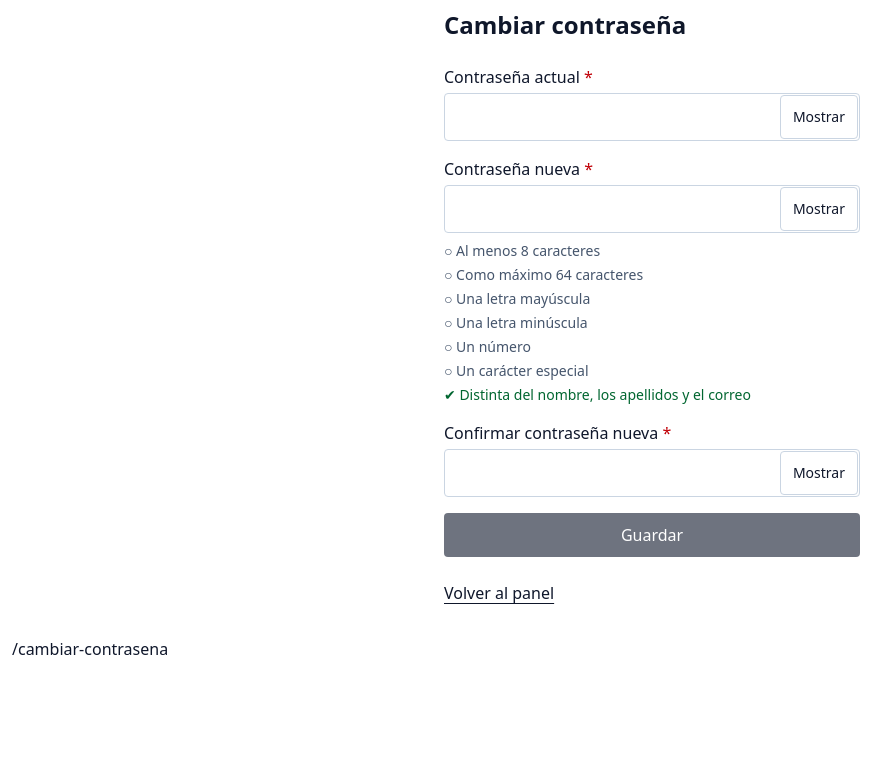
Test case: ChangePasswordPage › con un 403 muestra un error del sistema sin detalles internos
Type "vieja" into the password field labelled "Contraseña actual *" at (652, 117), box [444,93,860,141]
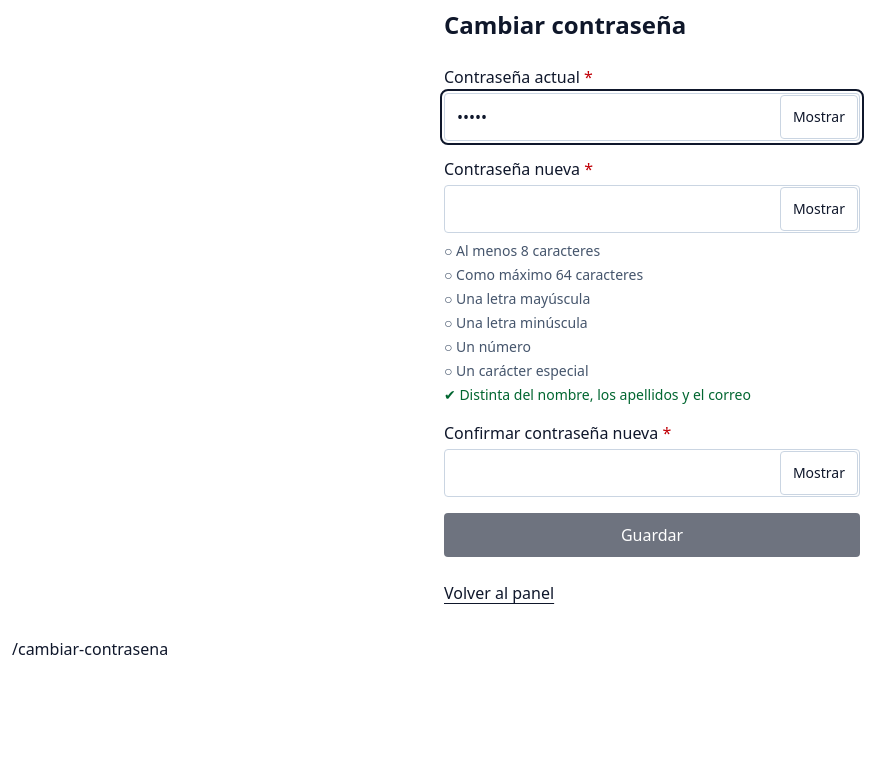
Type "Nueva.2026" into the password field labelled "Contraseña nueva *" at (652, 209), box [444,185,860,233]
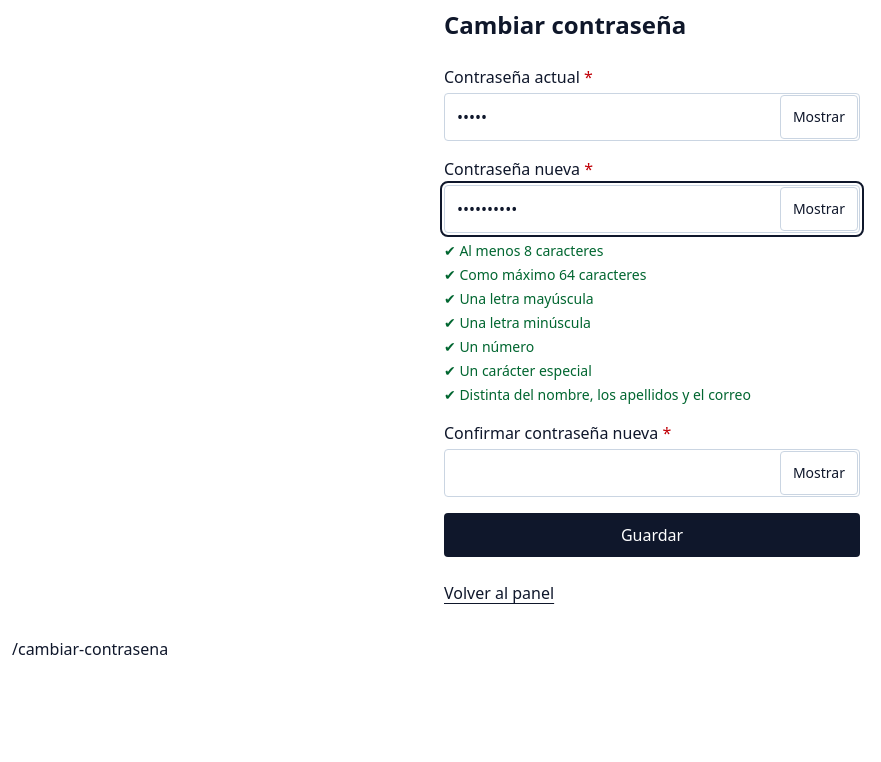
Type "Nueva.2026" into the password field labelled "Confirmar contraseña nueva *" at (652, 473), box [444,449,860,497]
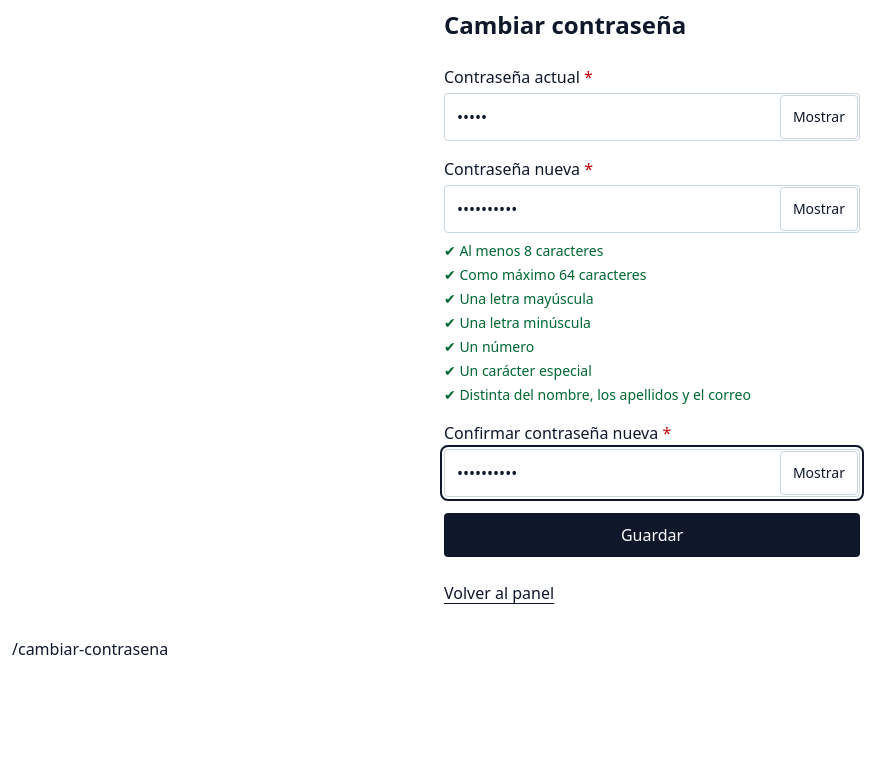
Click the button "Guardar" at (652, 535), box [444,513,860,557]
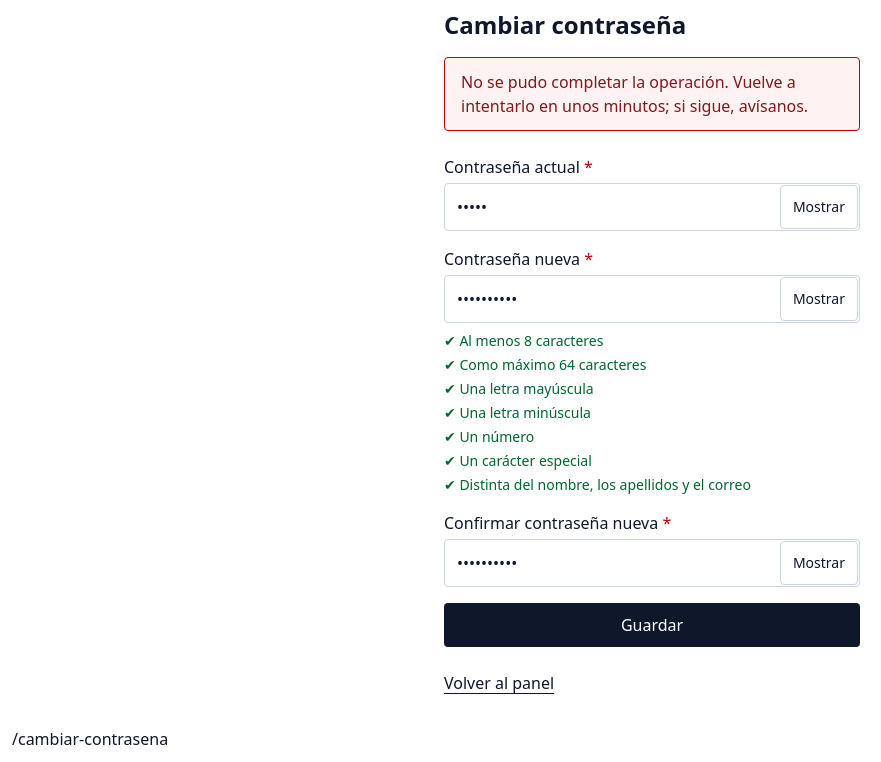
Expected: the text "No se pudo completar la operación. Vuelve a intentarlo en unos minutos; si sigue, avísanos." is shown, [461,71,808,117]
